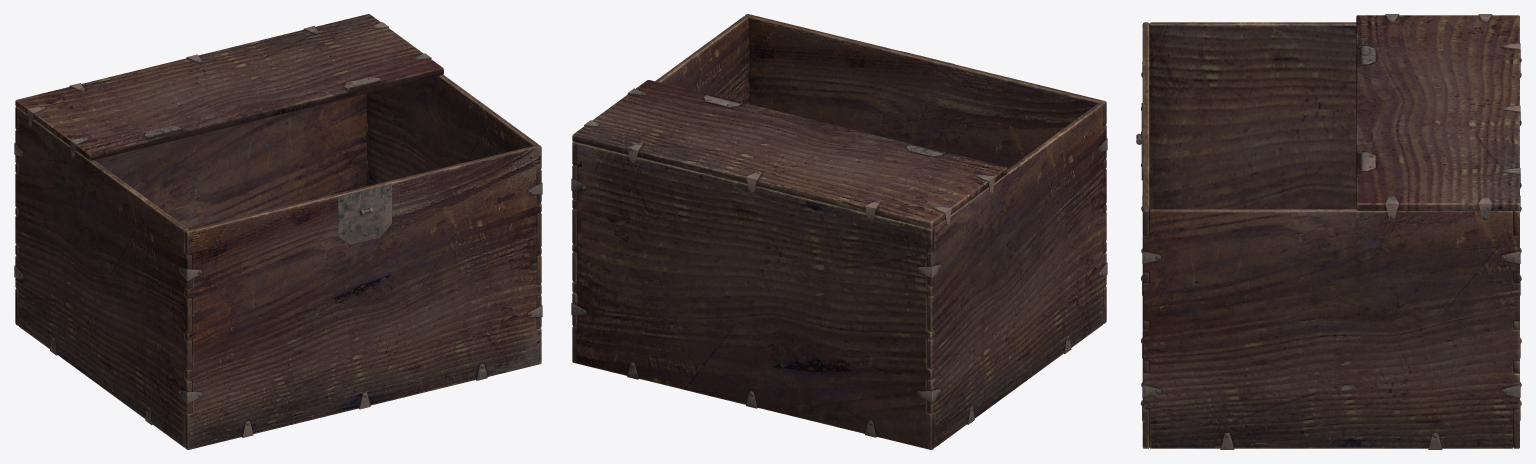
File: SM_Chest_body.fbx
3 views of the same model, side by side, from view 1: azimuth 30°, elevation 25°; view 2: azimuth 150°, elevation 25°; view 3: azimuth 270°, elevation 25° (orthographic). The views are drawn at different scales.
Visible parts, largest first — view 1: SM_Chest_body; view 2: SM_Chest_body; view 3: SM_Chest_body.
Part boxes in pixels (<box>): SM_Chest_body: <box>14,14,542,449</box>; SM_Chest_body: <box>571,14,1107,449</box>; SM_Chest_body: <box>1136,14,1521,449</box>.
Bounding box in the file's own units: 41.82 × 25.46 × 35.77.
